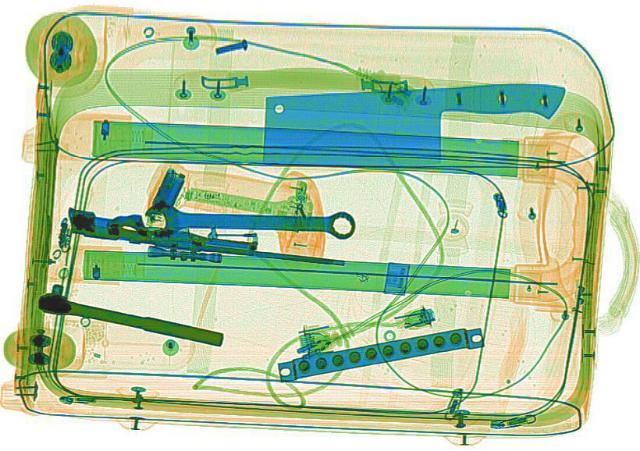Gun: (62, 205, 350, 276)
Knife: (256, 83, 568, 167)
Wrench: (142, 201, 356, 240)
